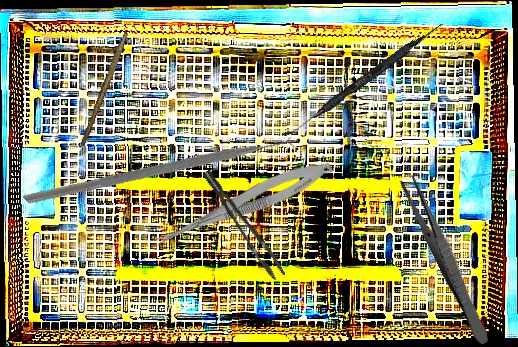Chopper: (22, 36, 307, 319)
Dressing Forceps: (397, 173, 496, 347)
Micro Scissor: (146, 151, 336, 261)
Scalpel Handle: (79, 30, 129, 148)
Spatula Surgical: (282, 17, 445, 144)
Tissue Forceps: (202, 161, 286, 287)
